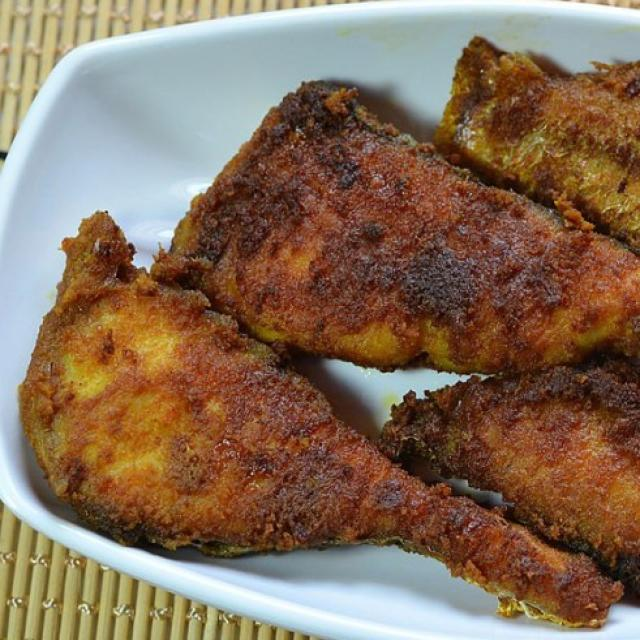CHICKEN FRY: (43, 18, 640, 620)
